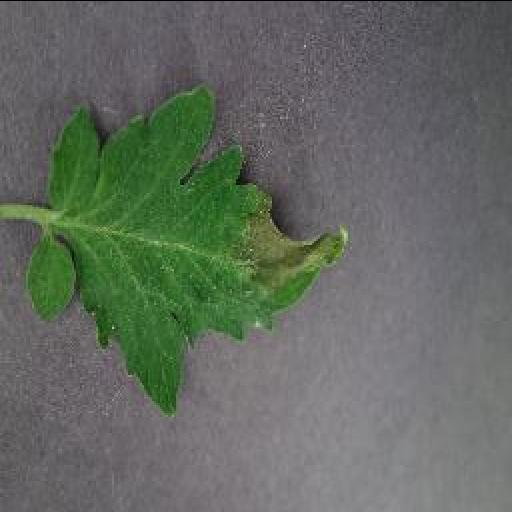disease_tomato: (24, 86, 354, 412)
